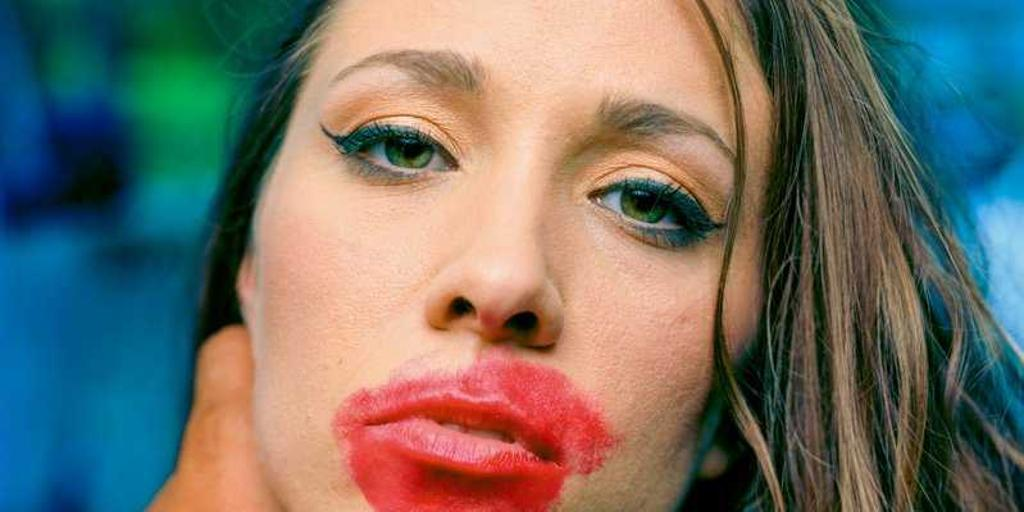face: (274, 20, 756, 512)
